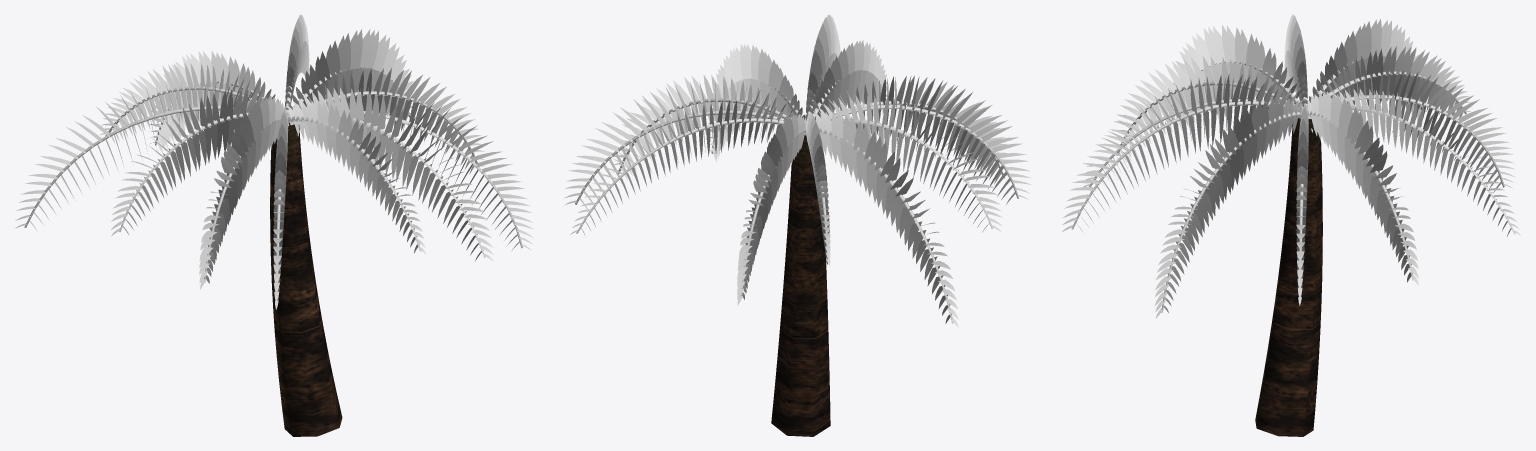
Rendered from Baumfarn_3.fbx.
3 renders of one model, left to right at view 1: azimuth 30°, elevation 25°; view 2: azimuth 150°, elevation 25°; view 3: azimuth 270°, elevation 25°, orthographic.
Visible parts, largest first — view 1: Baumfarn_3; view 2: Baumfarn_3; view 3: Baumfarn_3.
Part boxes in pixels (x1,y1,x2,y2): Baumfarn_3: (15, 14, 533, 436); Baumfarn_3: (564, 14, 1031, 436); Baumfarn_3: (1062, 14, 1520, 436).
Bounding box in the file's own units: 3.8 × 3.2 × 3.66.
Materials: 2 (1 with a texture image).
